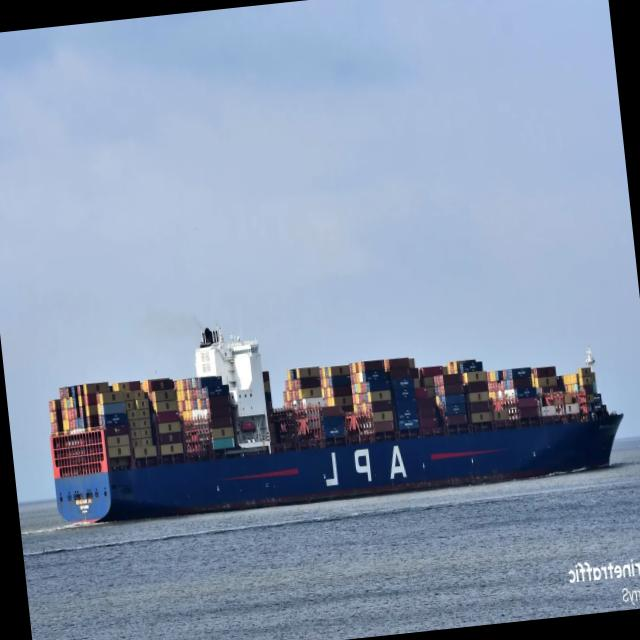Cargo: (49, 327, 623, 521)
